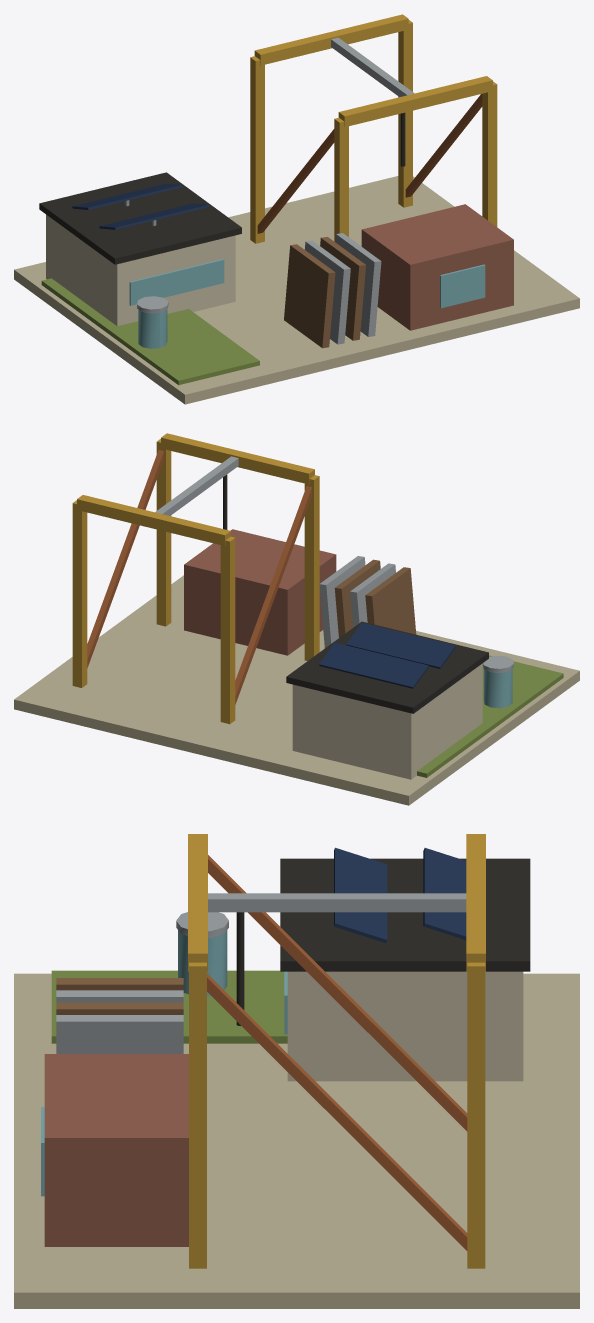
The model's file is b13-civic-construction-v2-lod0.glb.
3 renders of one model, top to bottom at view 1: azimuth 30°, elevation 25°; view 2: azimuth 150°, elevation 25°; view 3: azimuth 270°, elevation 25°, orthographic. The views are drawn at different scales.
Parts seen in each view (by area): view 1: MESH_B13_CIVIC_CONSTRUCTION; view 2: MESH_B13_CIVIC_CONSTRUCTION; view 3: MESH_B13_CIVIC_CONSTRUCTION.
Boxes of the visible parts, x1,y1,x2,y2 form: MESH_B13_CIVIC_CONSTRUCTION: (14,14,579,404); MESH_B13_CIVIC_CONSTRUCTION: (14,433,579,805); MESH_B13_CIVIC_CONSTRUCTION: (14,834,579,1308).
Bounding box in the file's own units: 16 × 7.66 × 12.
